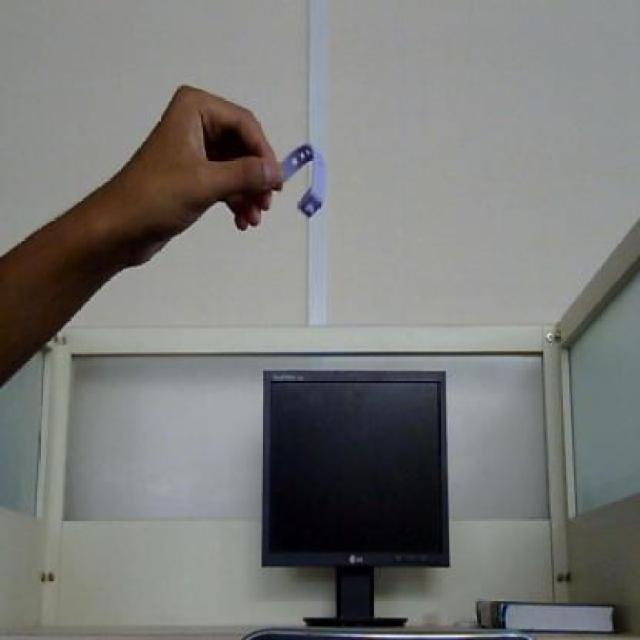Plastic: (276, 139, 330, 218)
